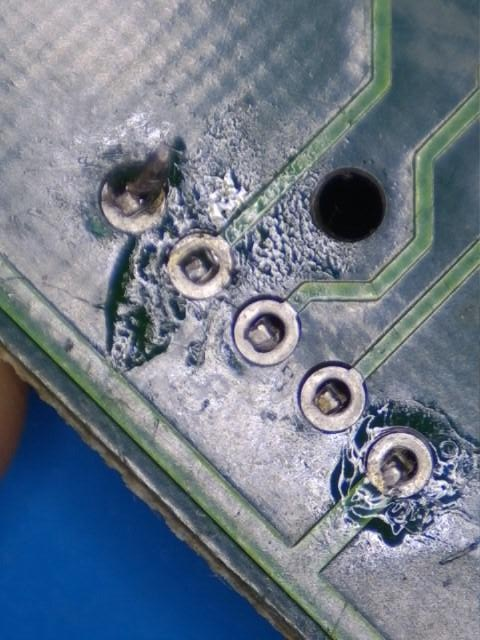pcb_defect: (101, 167, 166, 233), (169, 233, 231, 299)
